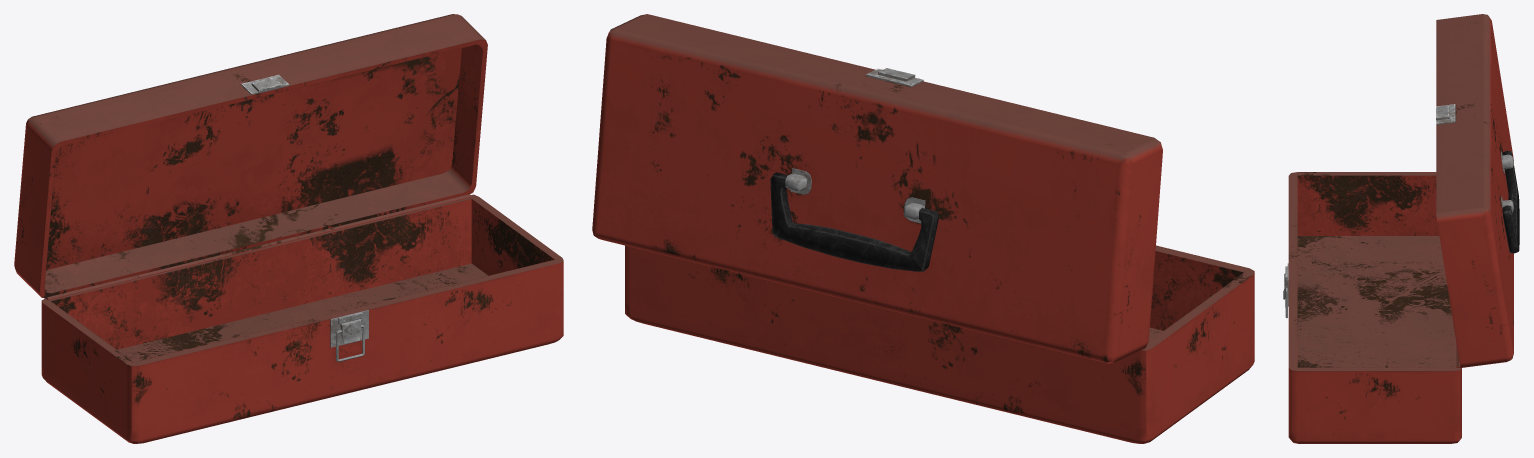
The picture shows the model from 3 angles, left to right: view 1: azimuth 30°, elevation 25°; view 2: azimuth 150°, elevation 25°; view 3: azimuth 270°, elevation 25°; orthographic projection. The views are drawn at different scales.
Parts seen in each view (by area): view 1: lid, box; view 2: lid, box, handel; view 3: box, lid, handel.
Boxes of the visible parts, x1=… form: lid: x1=14, y1=14, x2=487, y2=300; box: x1=41, y1=194, x2=563, y2=443; lid: x1=592, y1=14, x2=1162, y2=363; box: x1=625, y1=245, x2=1254, y2=443; handel: x1=770, y1=172, x2=939, y2=271; box: x1=1283, y1=172, x2=1461, y2=443; lid: x1=1436, y1=14, x2=1513, y2=367; handel: x1=1502, y1=150, x2=1519, y2=253.
Size of the model in its own units: 0.5544 by 0.309 by 0.2783.
